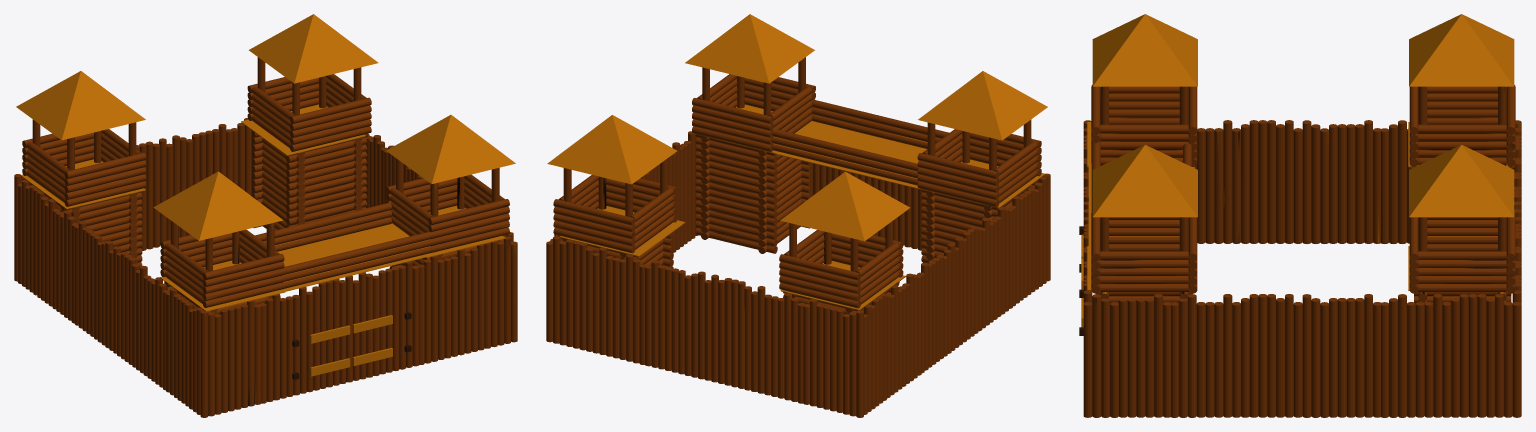
File: mainBuilding.fbx
3 renders of one model, left to right at view 1: azimuth 30°, elevation 25°; view 2: azimuth 150°, elevation 25°; view 3: azimuth 270°, elevation 25°, orthographic. The views are drawn at different scales.
Parts seen in each view (by area): view 1: wieźa.011; view 2: wieźa.011; view 3: wieźa.011.
Part boxes in pixels (x1,y1,x2,y2): wieźa.011: [14, 14, 517, 417]; wieźa.011: [546, 14, 1050, 417]; wieźa.011: [1079, 14, 1521, 417].
Bounding box in the file's own units: 1622 × 1062 × 1701.
